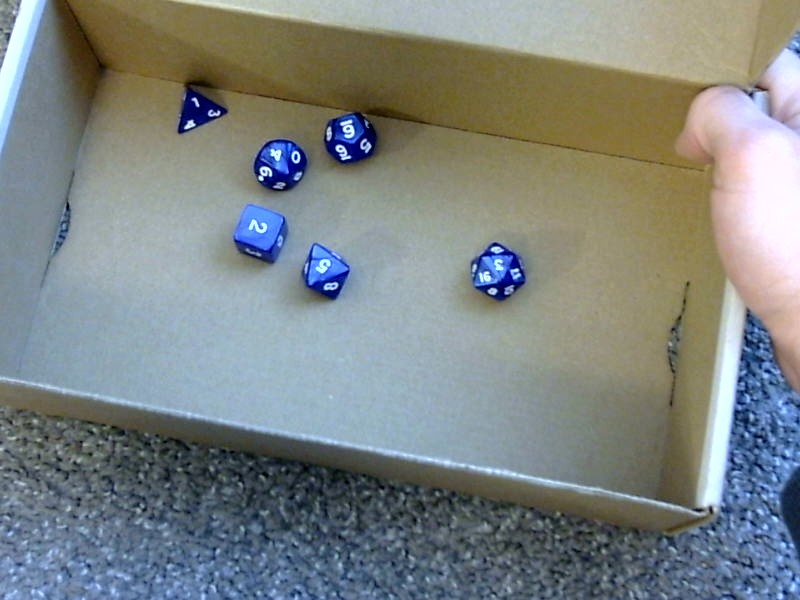d10 4: (246, 133, 309, 193)
d12 6: (317, 103, 377, 170)
d20 3: (465, 235, 528, 303)
d4 1: (167, 78, 229, 140)
d6 2: (229, 201, 290, 268)
d8 5: (299, 241, 351, 302)
